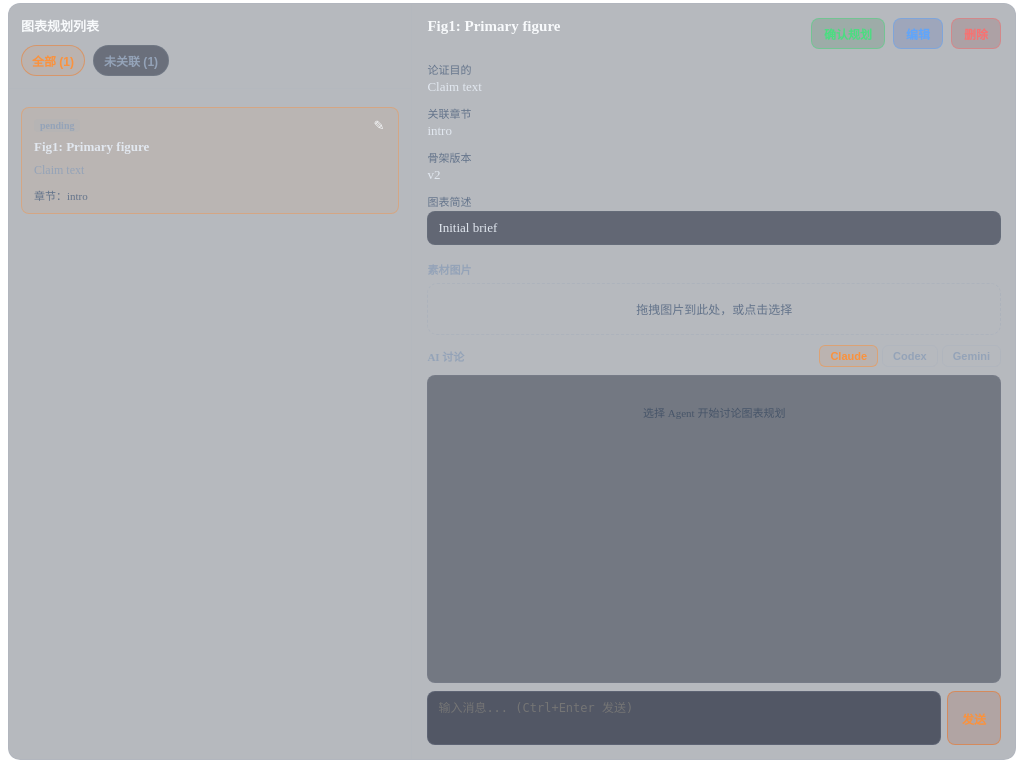
Test: FigurePlanWorkbench smoke coverage › opens the editor overlay and saves the updated figure plan draft
Click the button named "Open Figure Plan Editor": x=379, y=126 [372,118,386,133]
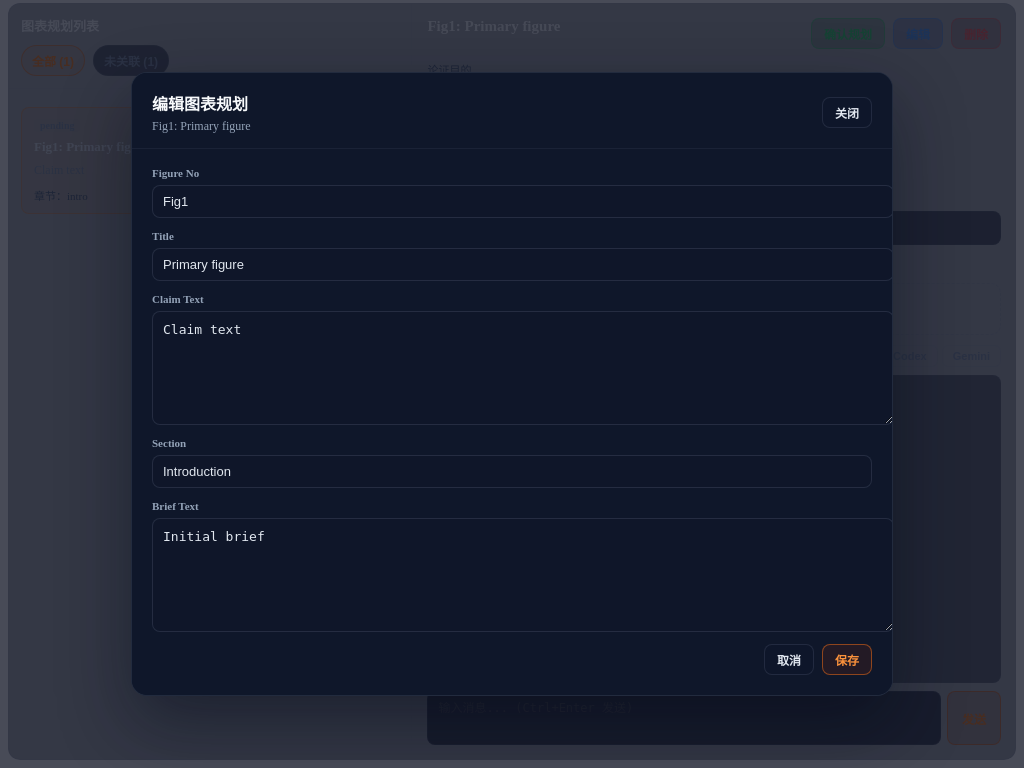
Now the dialog "编辑图表规划" is shown
Replace the text in the field labelled "Figure No" with "Fig1A": x=523, y=202 [152,185,894,218]
Replace the text in the field labelled "Title" with "Updated figure": x=523, y=264 [152,248,894,281]
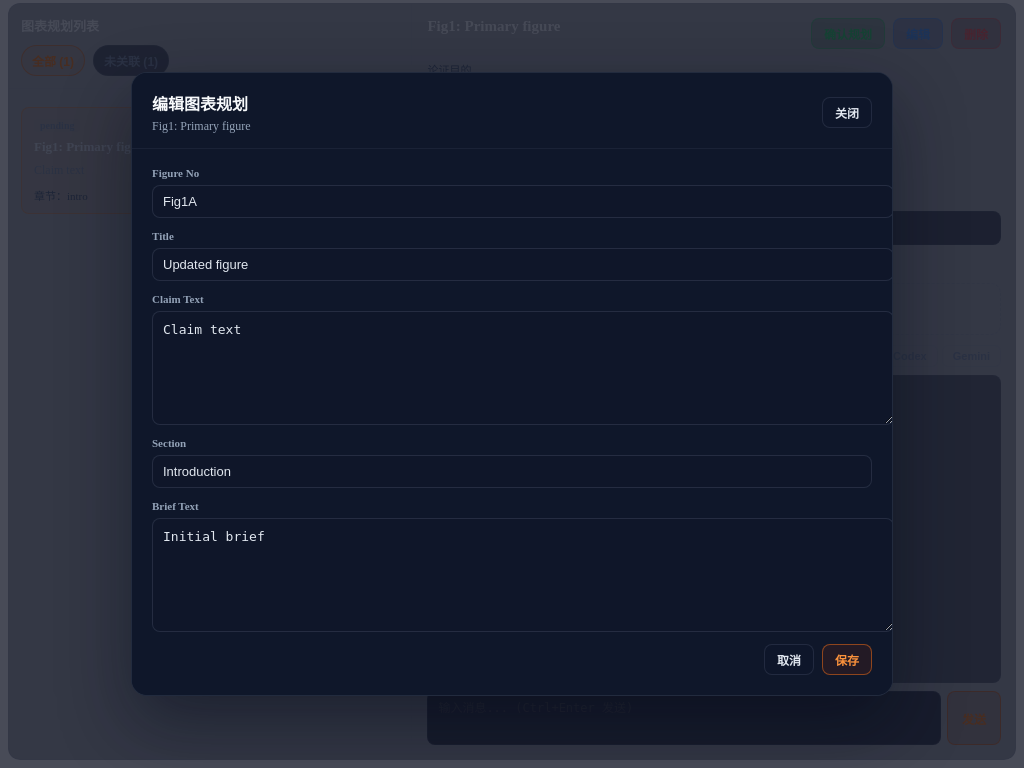
Replace the text in the text box labelled "Claim Text" with "Updated claim": x=523, y=368 [152,311,894,425]
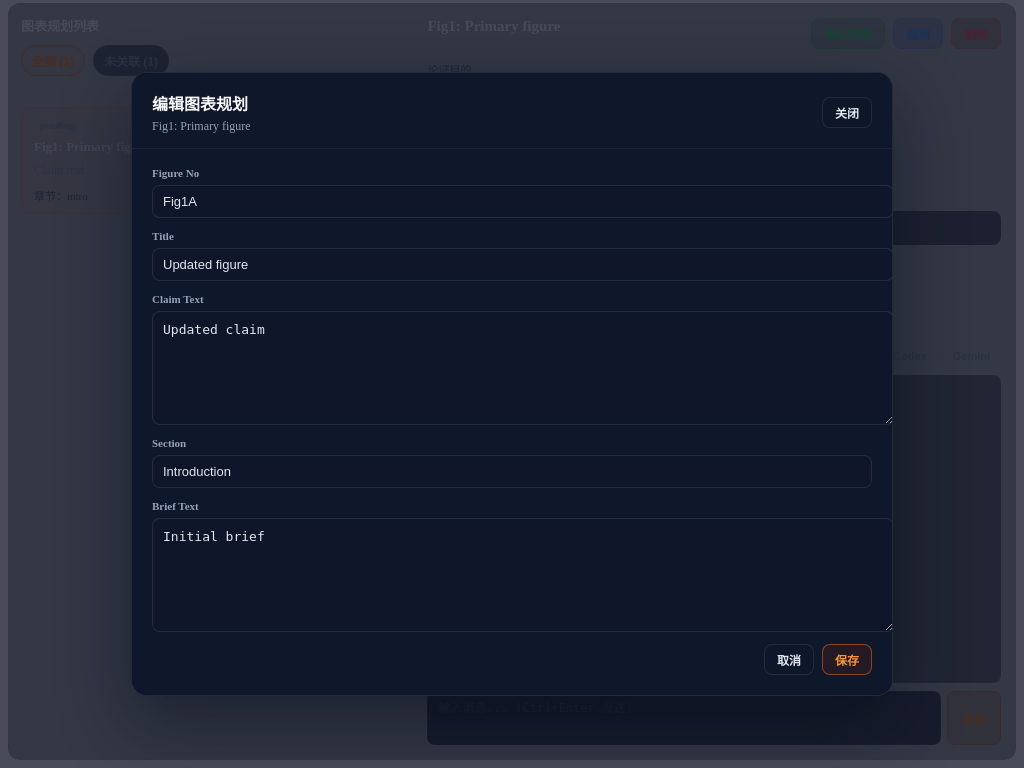
Replace the text in the text box labelled "Brief Text" with "Updated brief": x=523, y=575 [152,518,894,632]
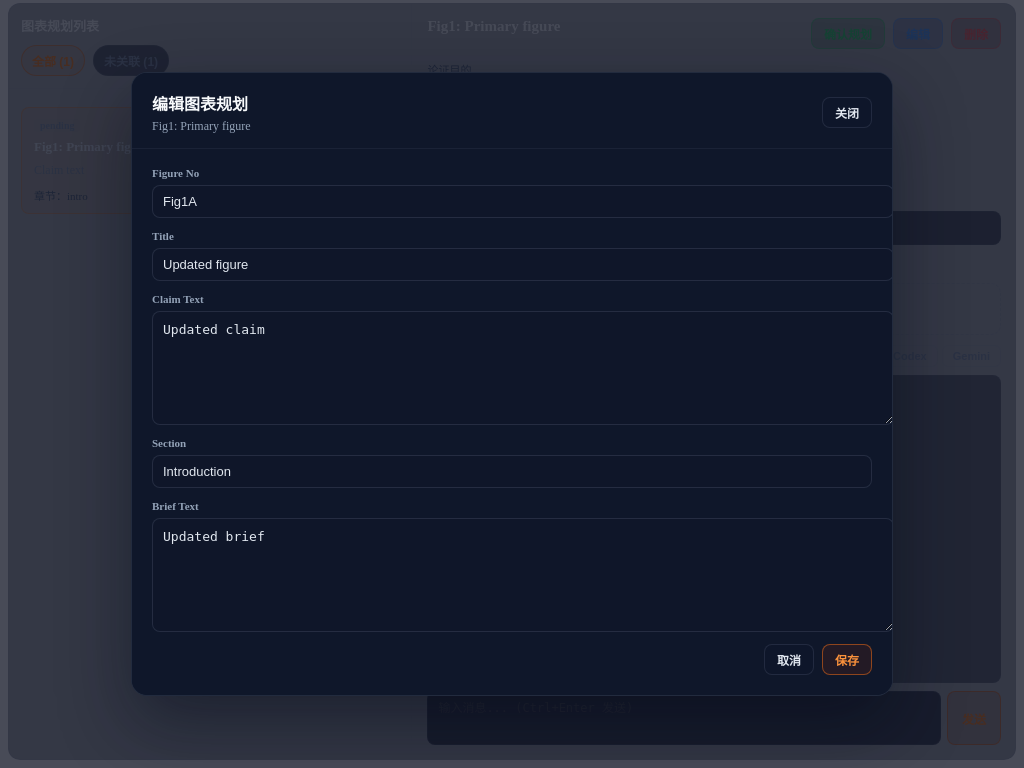
Select "Results" in the dropdown labelled "Section": x=512, y=472 [152,455,872,488]
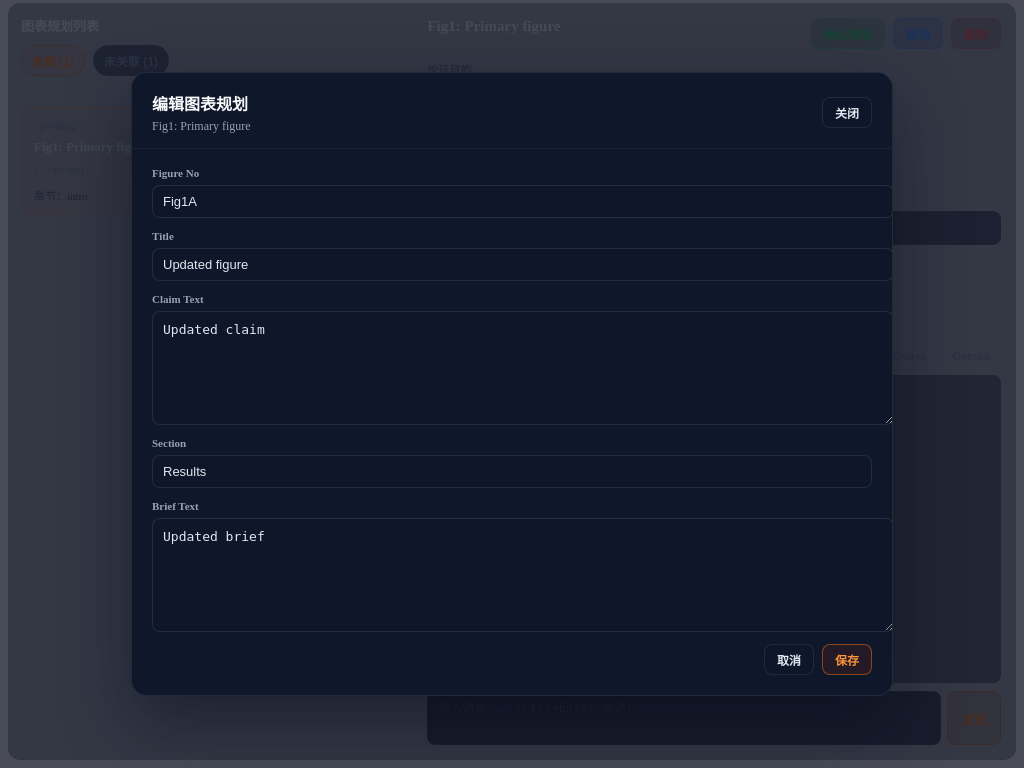
Click the button with aria-label "Save Figure Plan": x=847, y=660 [822,644,872,675]
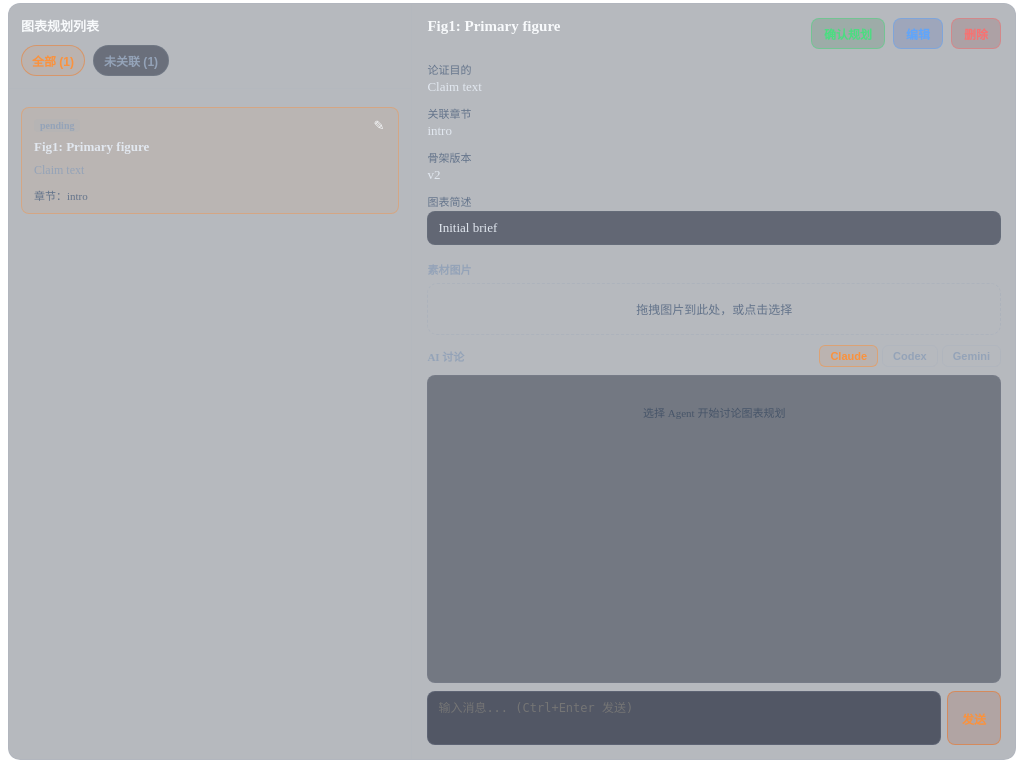
Now the text "编辑图表规划" is gone
